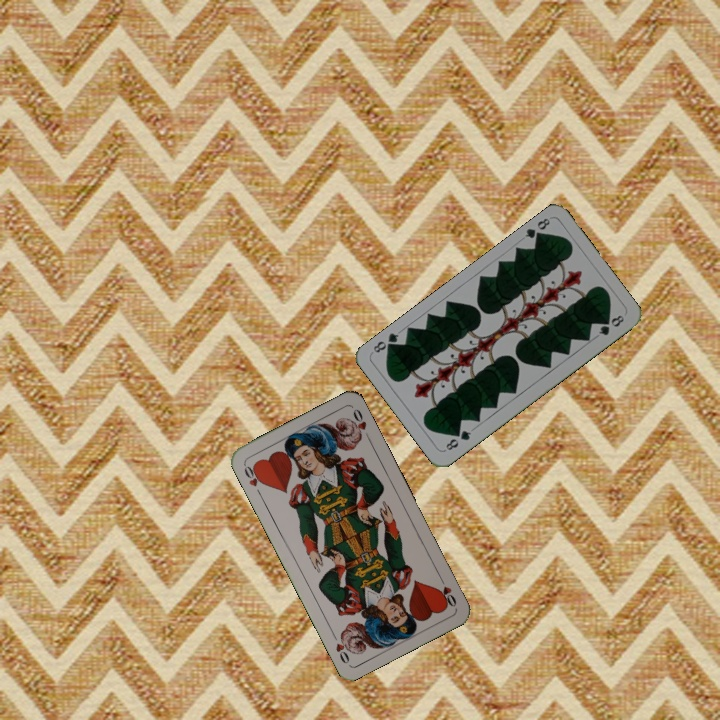G8: (521, 214, 553, 244), (441, 426, 474, 453)
HO: (240, 461, 266, 498), (435, 572, 459, 610)
